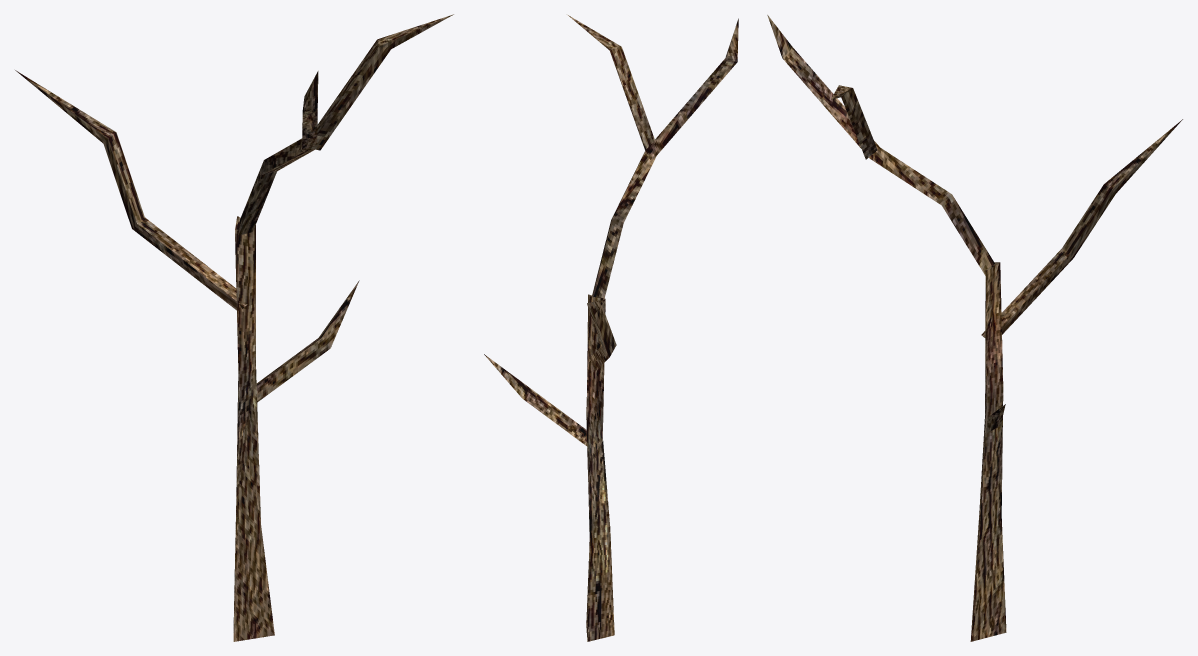
The model's file is Shrub1.glb.
3 views of the same model, side by side, from view 1: azimuth 30°, elevation 25°; view 2: azimuth 150°, elevation 25°; view 3: azimuth 270°, elevation 25° (orthographic). The views are drawn at different scales.
Parts seen in each view (by area): view 1: Cylinder; view 2: Cylinder; view 3: Cylinder.
Part boxes in pixels (left/top/right/bottom): Cylinder: left=15, top=14, right=453, bottom=641; Cylinder: left=484, top=15, right=738, bottom=641; Cylinder: left=767, top=15, right=1182, bottom=641.
Size of the model in its own units: 1.41 by 3.65 by 2.31.
Materials: 1 (1 with a texture image).
